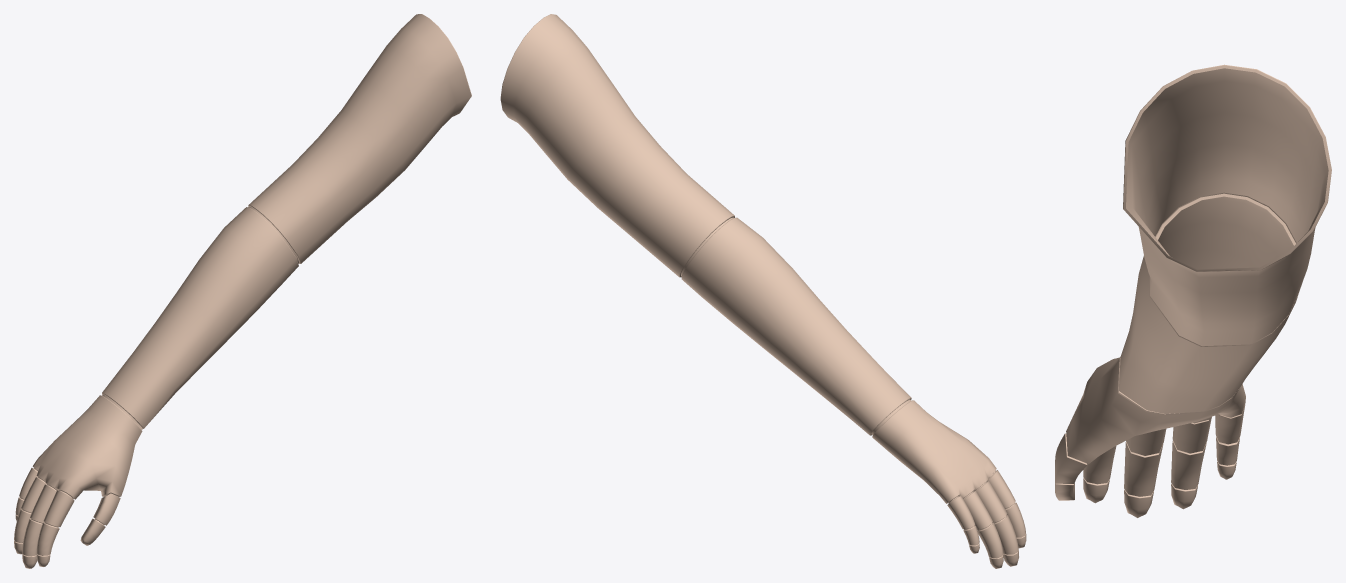
Rendered from MannequinFemaleArmRight.fbx.
3 renders of one model, left to right at view 1: azimuth 30°, elevation 25°; view 2: azimuth 150°, elevation 25°; view 3: azimuth 270°, elevation 25°, orthographic. The views are drawn at different scales.
Visible parts, largest first — view 1: MannequinArmFemaleLeft1; view 2: MannequinArmFemaleLeft1; view 3: MannequinArmFemaleLeft1.
Boxes of the visible parts, box(x1,y1,x2,y2) form: MannequinArmFemaleLeft1: box(14, 14, 471, 568); MannequinArmFemaleLeft1: box(500, 14, 1026, 568); MannequinArmFemaleLeft1: box(1055, 64, 1331, 517).
Bounding box in the file's own units: 0.5202 × 0.4823 × 0.1402.
